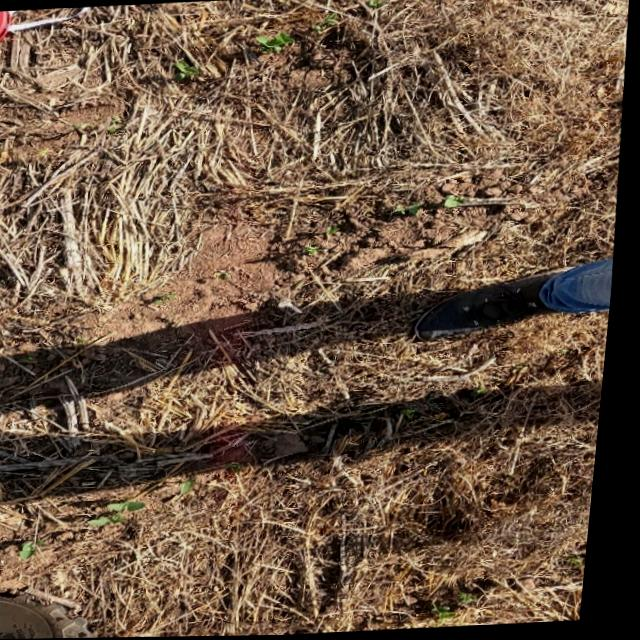soy_plant: (98, 499, 154, 526), (256, 33, 288, 53), (175, 61, 198, 81), (443, 606, 467, 622), (399, 206, 424, 218), (28, 543, 46, 559), (471, 594, 487, 606), (308, 246, 321, 255), (330, 227, 339, 235), (189, 484, 200, 490), (367, 0, 382, 4)
